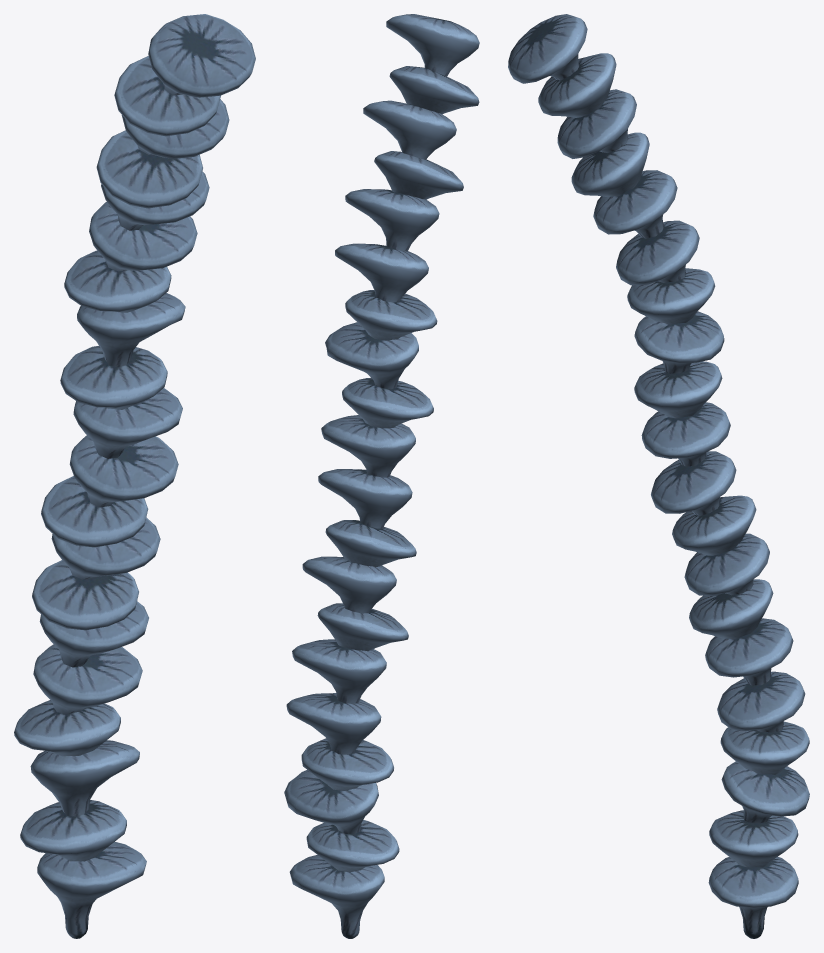
Rendered from Cartoon Seaweed_13-1-1.fbx.
3 views of the same model, side by side, from view 1: azimuth 30°, elevation 25°; view 2: azimuth 150°, elevation 25°; view 3: azimuth 270°, elevation 25° (orthographic). The views are drawn at different scales.
Parts seen in each view (by area): view 1: Cartoon Seaweed_13.1.1; view 2: Cartoon Seaweed_13.1.1; view 3: Cartoon Seaweed_13.1.1.
Part boxes in pixels (x1=…): Cartoon Seaweed_13.1.1: x1=14, y1=14, x2=255, y2=938; Cartoon Seaweed_13.1.1: x1=284, y1=14, x2=479, y2=938; Cartoon Seaweed_13.1.1: x1=508, y1=14, x2=809, y2=938.
Size of the model in its own units: 13.89 by 113 by 33.51.
Materials: 1 (1 with a texture image).
